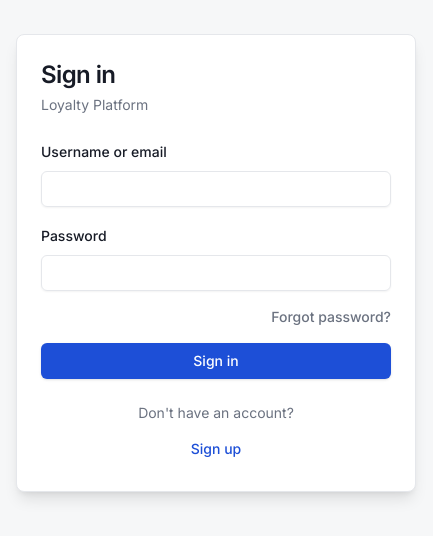
it: Login › shows error when signIn rejects (negative)
Type "u" into the field labelled "Username or email" at (216, 189), box [41,171,391,207]
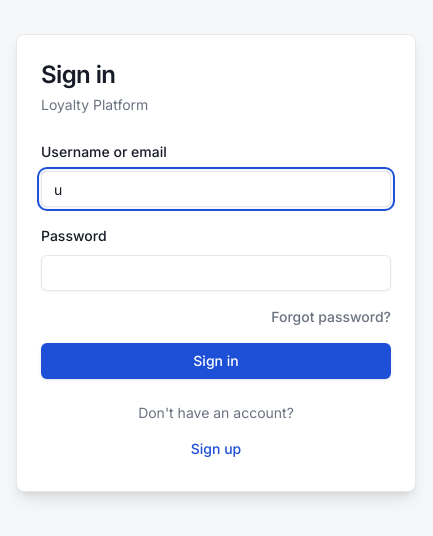
Type "p" into the password field labelled "Password" at (216, 273), box [41,255,391,291]
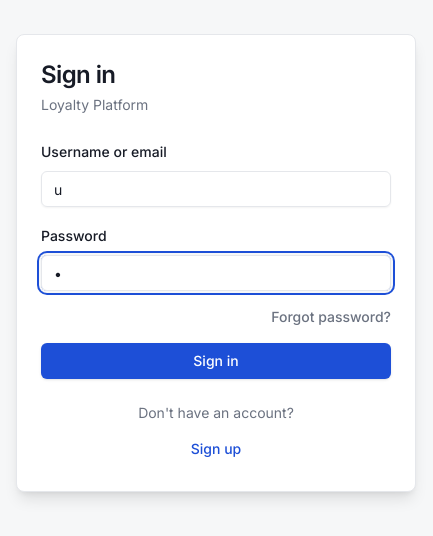
Click the button "Sign in" at (216, 361), box [41,343,391,379]
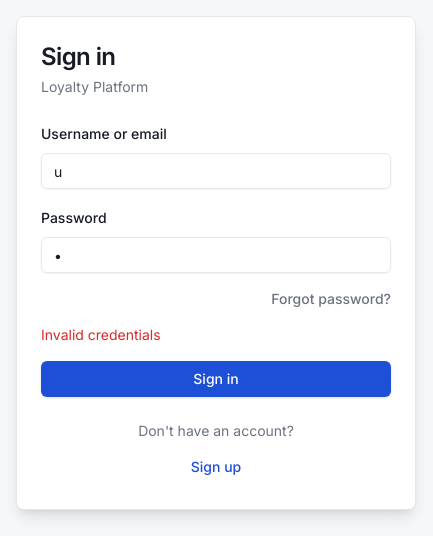
Now the message reads "Invalid credentials", box [41,326,161,343]
